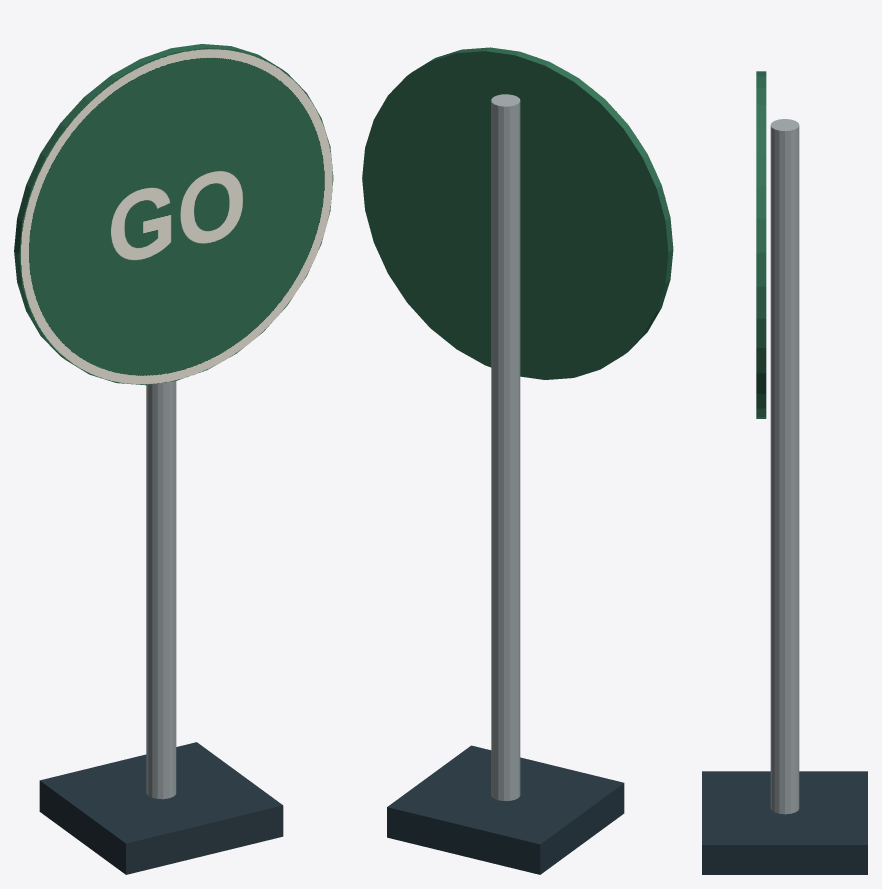
Rendered from scendance-plan-go.glb.
The picture shows the model from 3 angles, left to right: view 1: azimuth 30°, elevation 25°; view 2: azimuth 150°, elevation 25°; view 3: azimuth 270°, elevation 25°; orthographic projection. The views are drawn at different scales.
Bounding box in the file's own units: 0.84 × 2 × 0.4.
4 materials, 1 textured.
